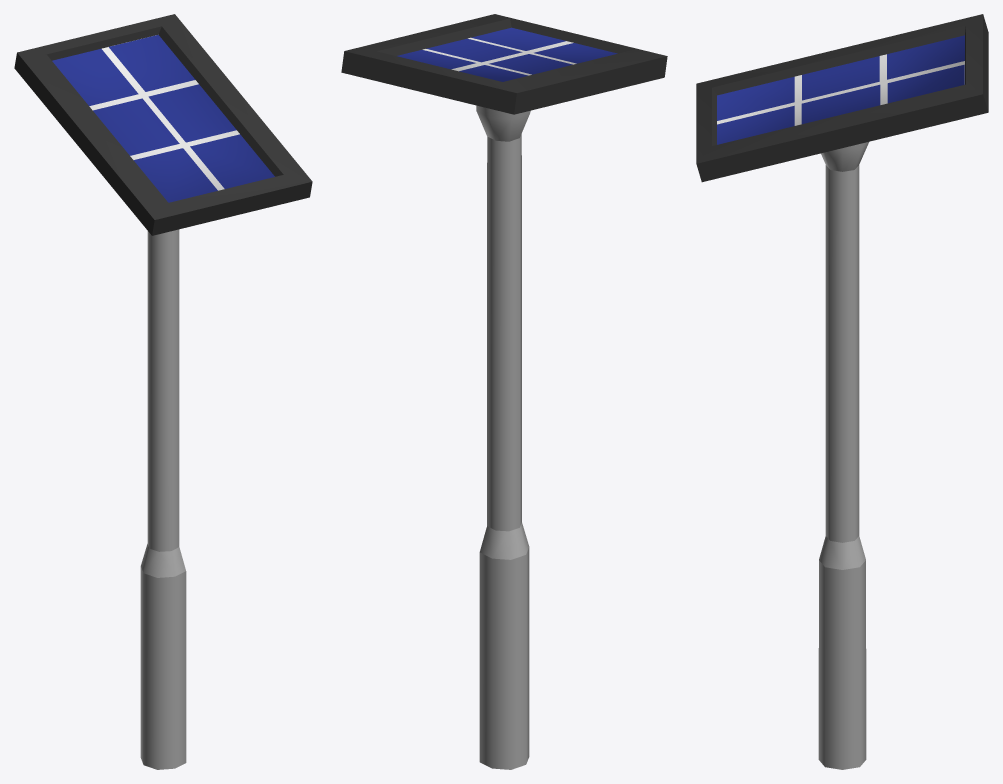
Rendered from Light2.fbx.
3 views of the same model, side by side, from view 1: azimuth 30°, elevation 25°; view 2: azimuth 150°, elevation 25°; view 3: azimuth 270°, elevation 25° (orthographic). The views are drawn at different scales.
Visible parts, largest first — view 1: Light2; view 2: Light2; view 3: Light2.
Boxes of the visible parts, <box> form: Light2: <box>14,14,312,769</box>; Light2: <box>341,14,667,769</box>; Light2: <box>696,14,988,769</box>.
Size of the model in its own units: 0.3676 by 1.51 by 0.5657.
